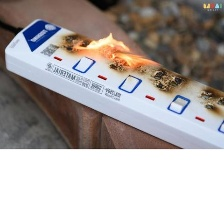three_eye_plug: (2, 16, 224, 149)
